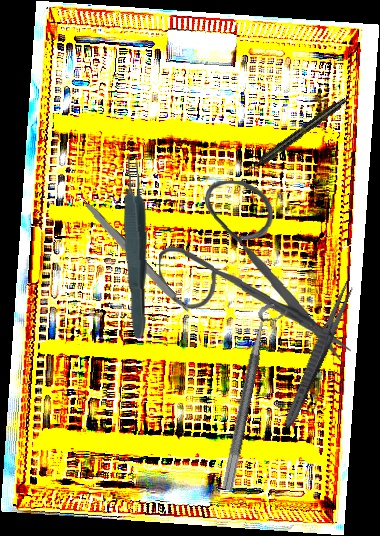Dressing Forceps: (279, 275, 359, 432)
Fixation Ring: (220, 301, 289, 495)
Handpiece: (245, 95, 349, 175)
Iris Scissors: (155, 178, 358, 362)
Scalpel Handle: (78, 197, 192, 317)
Tissue Forceps: (120, 153, 152, 339)
